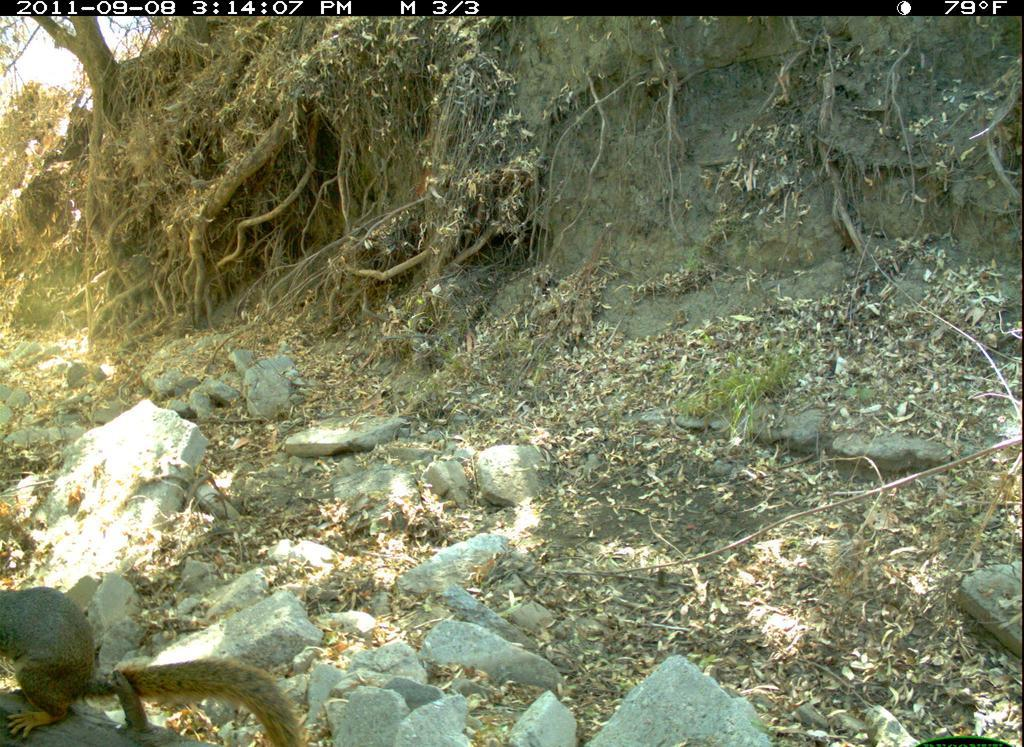squirrel: (1, 575, 310, 745)
